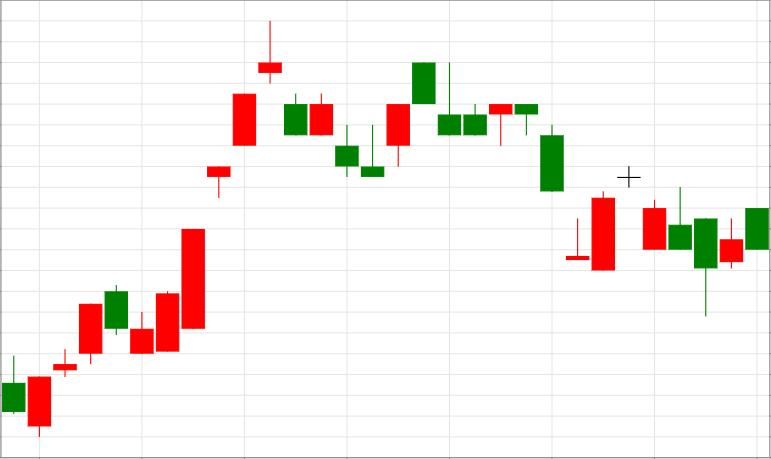evening_star_fall: (156, 21, 308, 352)
